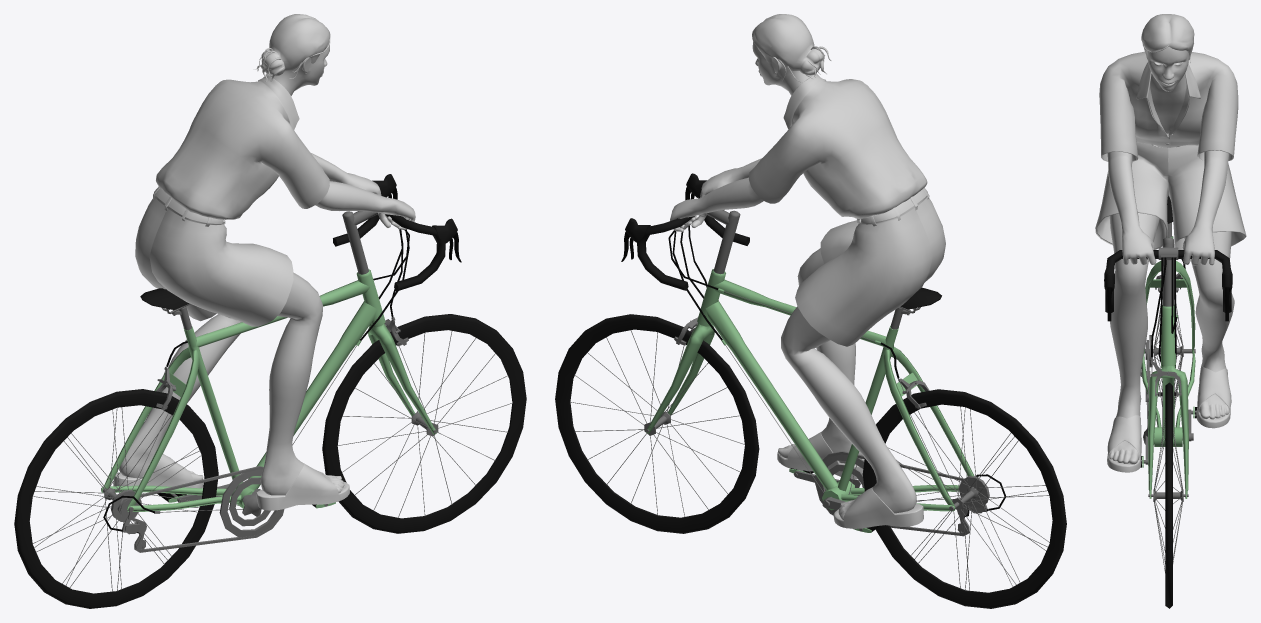
File: sm_giant_scr2_modelcenterpoint_lod_2.fbx
The picture shows the model from 3 angles, left to right: view 1: azimuth 30°, elevation 25°; view 2: azimuth 150°, elevation 25°; view 3: azimuth 270°, elevation 25°; orthographic projection. The views are drawn at different scales.
Parts seen in each view (by area): view 1: sm_giant_scr2_lod_3FBXASC046fbm; view 2: sm_giant_scr2_lod_3FBXASC046fbm; view 3: sm_giant_scr2_lod_3FBXASC046fbm.
Part boxes in pixels (x1=…): sm_giant_scr2_lod_3FBXASC046fbm: x1=14, y1=14, x2=526, y2=608; sm_giant_scr2_lod_3FBXASC046fbm: x1=555, y1=14, x2=1066, y2=608; sm_giant_scr2_lod_3FBXASC046fbm: x1=1095, y1=14, x2=1246, y2=608.
Bounding box in the file's own units: 1.68 × 1.71 × 0.4473.
